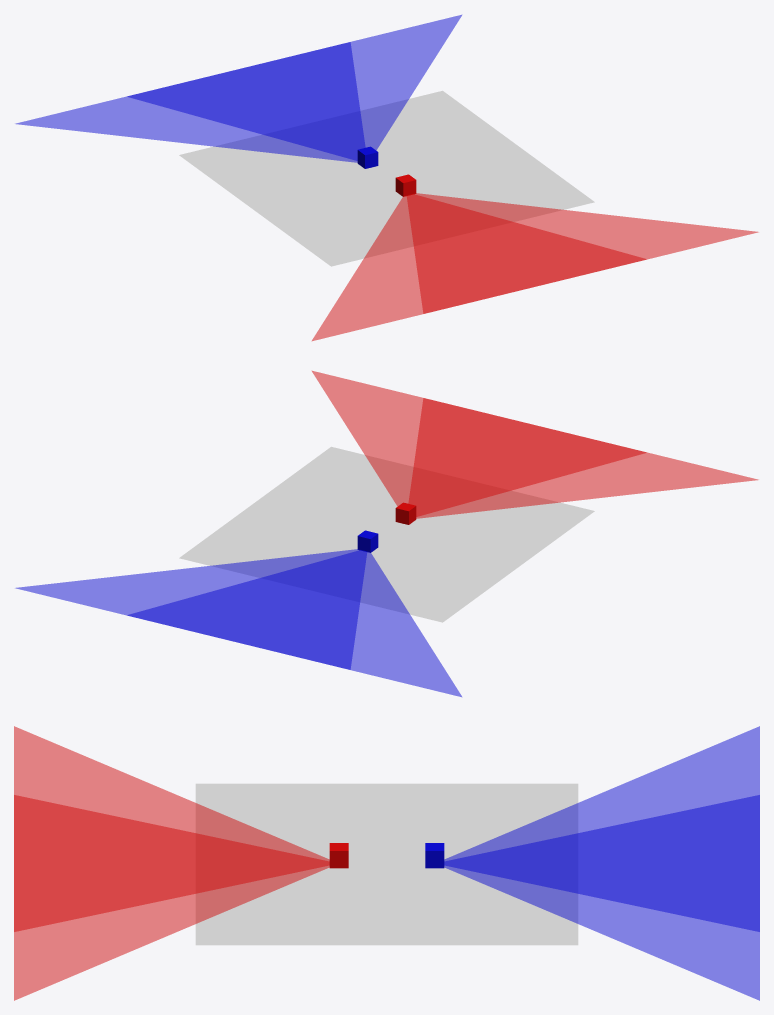
The model's file is AudioCones.glb.
3 renders of one model, top to bottom at view 1: azimuth 30°, elevation 25°; view 2: azimuth 150°, elevation 25°; view 3: azimuth 270°, elevation 25°, orthographic. The views are drawn at different scales.
Visible parts, largest first — view 1: Plane, Cone.Red.Outer, Cone.Blue.Outer, Cone.Red.Inner, Cone.Blue.Inner; view 2: Plane, Cone.Blue.Outer, Cone.Red.Outer, Cone.Blue.Inner, Cone.Red.Inner; view 3: Plane, Cone.Blue.Outer, Cone.Red.Outer, Cone.Blue.Inner, Cone.Red.Inner, Box.Blue, Box.Red.
Boxes of the visible parts, x1=… form: Plane: x1=179, y1=90, x2=594, y2=266; Cone.Red.Outer: x1=312, y1=193, x2=758, y2=340; Cone.Blue.Outer: x1=15, y1=15, x2=461, y2=162; Cone.Red.Inner: x1=406, y1=194, x2=646, y2=313; Cone.Blue.Inner: x1=127, y1=42, x2=365, y2=160; Plane: x1=179, y1=446, x2=594, y2=622; Cone.Blue.Outer: x1=15, y1=549, x2=461, y2=696; Cone.Red.Outer: x1=312, y1=371, x2=758, y2=518; Cone.Blue.Inner: x1=127, y1=550, x2=367, y2=669; Cone.Red.Inner: x1=408, y1=398, x2=646, y2=516; Plane: x1=195, y1=783, x2=578, y2=945; Cone.Blue.Outer: x1=444, y1=726, x2=759, y2=1000; Cone.Red.Outer: x1=14, y1=726, x2=329, y2=1000; Cone.Blue.Inner: x1=444, y1=795, x2=759, y2=931; Cone.Red.Inner: x1=14, y1=795, x2=329, y2=931; Box.Blue: x1=425, y1=843, x2=444, y2=868; Box.Red: x1=329, y1=843, x2=348, y2=868.
Bounding box in the file's own units: 68 × 2 × 78.
